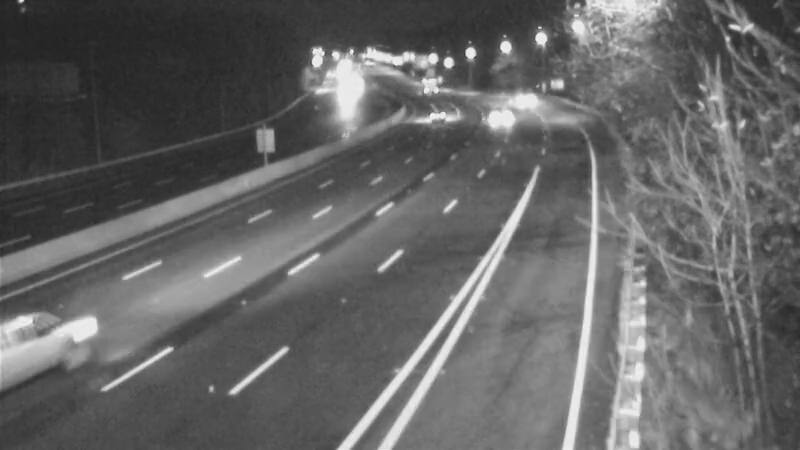vehicle: (1, 284, 95, 394), (405, 63, 455, 113), (507, 75, 557, 125), (470, 88, 520, 138), (323, 66, 373, 116)
